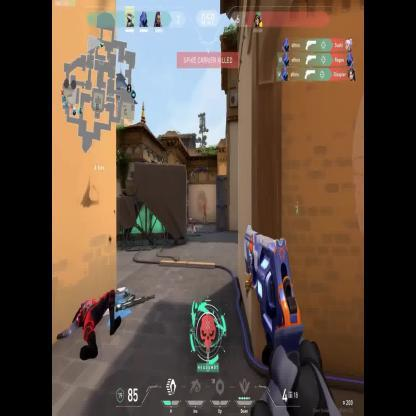enemy: (203, 203, 208, 224)
enemy_head: (204, 203, 206, 207)
